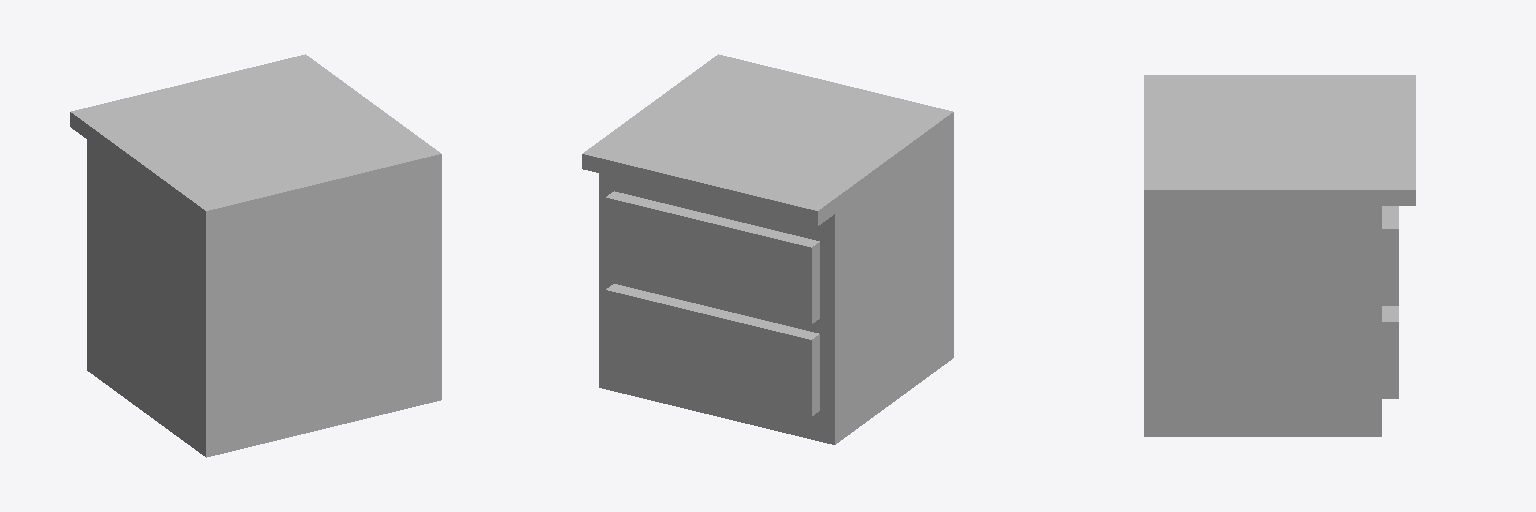
File: placard_dark_wood.obj
3 views of the same model, side by side, from view 1: azimuth 30°, elevation 25°; view 2: azimuth 150°, elevation 25°; view 3: azimuth 270°, elevation 25° (orthographic).
Parts seen in each view (by area): view 1: tiroir, wood; view 2: tiroir, wood; view 3: tiroir, wood.
Boxes of the visible parts, box(x1,y1,x2,y2) form: tiroir: box(87, 140, 441, 457); wood: box(70, 54, 441, 226); tiroir: box(599, 127, 953, 444); wood: box(582, 54, 953, 226); tiroir: box(1144, 206, 1398, 436); wood: box(1144, 75, 1415, 205).
Bounding box in the file's own units: 1 × 1 × 1.